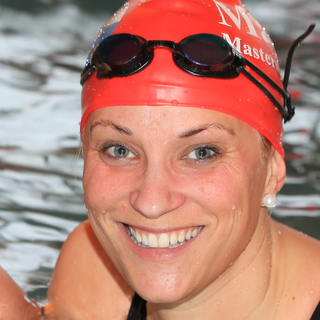eye: (94, 136, 147, 168), (175, 138, 228, 168)
